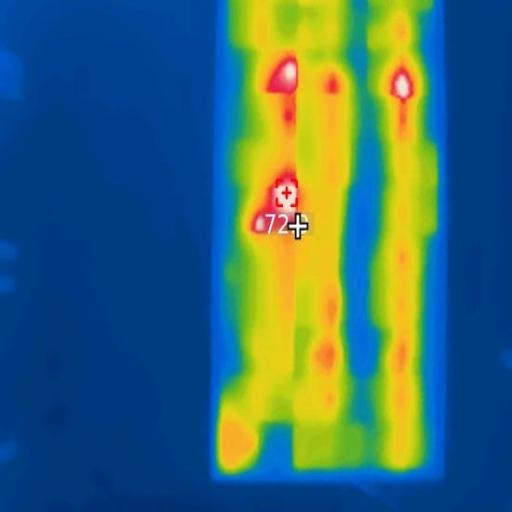hotspot: (263, 170, 300, 232), (269, 52, 300, 98), (392, 69, 412, 99), (253, 211, 267, 236)
